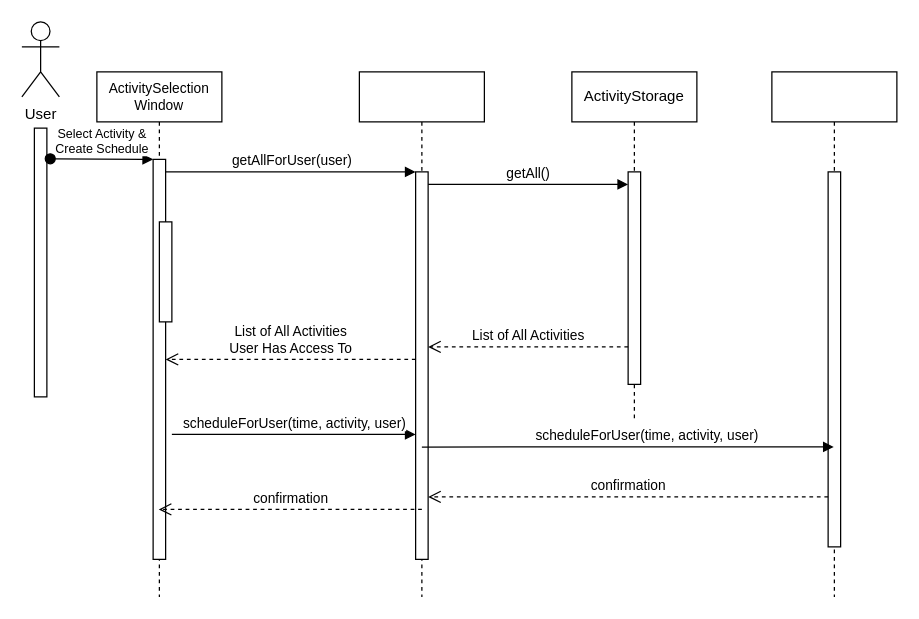
Image size: 919x619. Some labels were removed from this diagram. The box of each missing label's shape, as (x1, y1, x2, y2) in pixels:
ActivityManager: (358, 71, 484, 597)
Scheduler: (771, 71, 897, 597)
